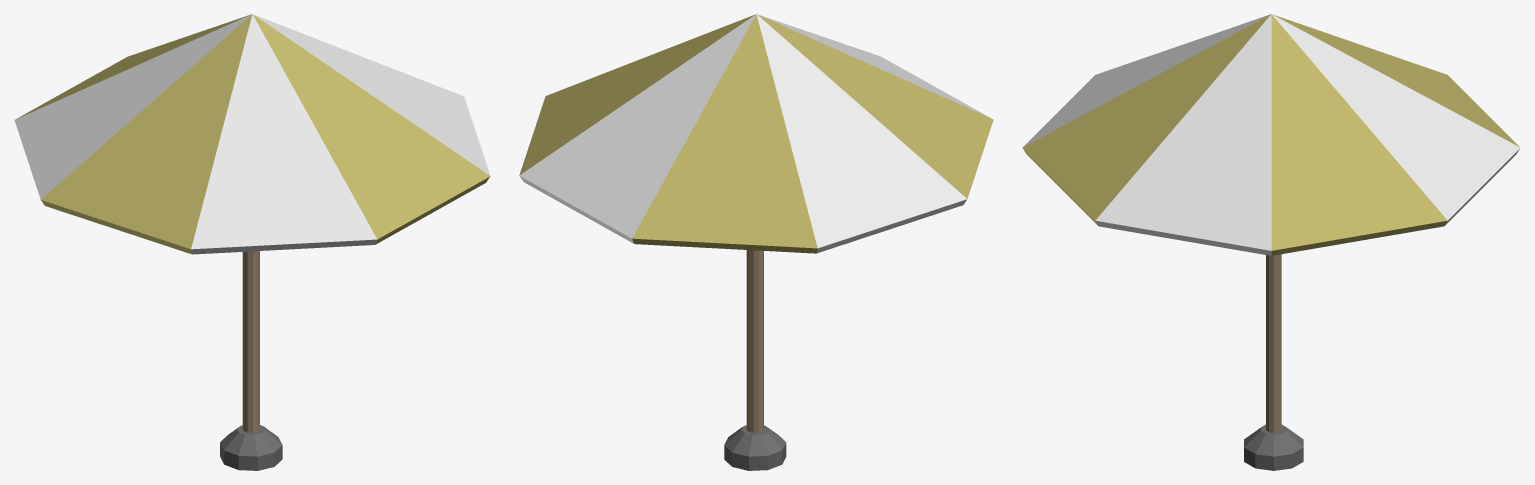
Rendered from Sombrilla tipo 2.fbx.
3 renders of one model, left to right at view 1: azimuth 30°, elevation 25°; view 2: azimuth 150°, elevation 25°; view 3: azimuth 270°, elevation 25°, orthographic.
Parts seen in each view (by area): view 1: Sombrilla1, Soporte_de_sombrilla1; view 2: Sombrilla1, Soporte_de_sombrilla1; view 3: Sombrilla1, Soporte_de_sombrilla1.
Part boxes in pixels (left/top/right/bottom): Sombrilla1: left=14, top=14, right=490, bottom=254; Soporte_de_sombrilla1: left=220, top=251, right=282, bottom=470; Sombrilla1: left=519, top=14, right=993, bottom=253; Soporte_de_sombrilla1: left=724, top=250, right=786, bottom=470; Sombrilla1: left=1022, top=14, right=1520, bottom=255; Soporte_de_sombrilla1: left=1244, top=254, right=1303, bottom=470.
Bounding box in the file's own units: 3.82 × 3.83 × 3.9.
